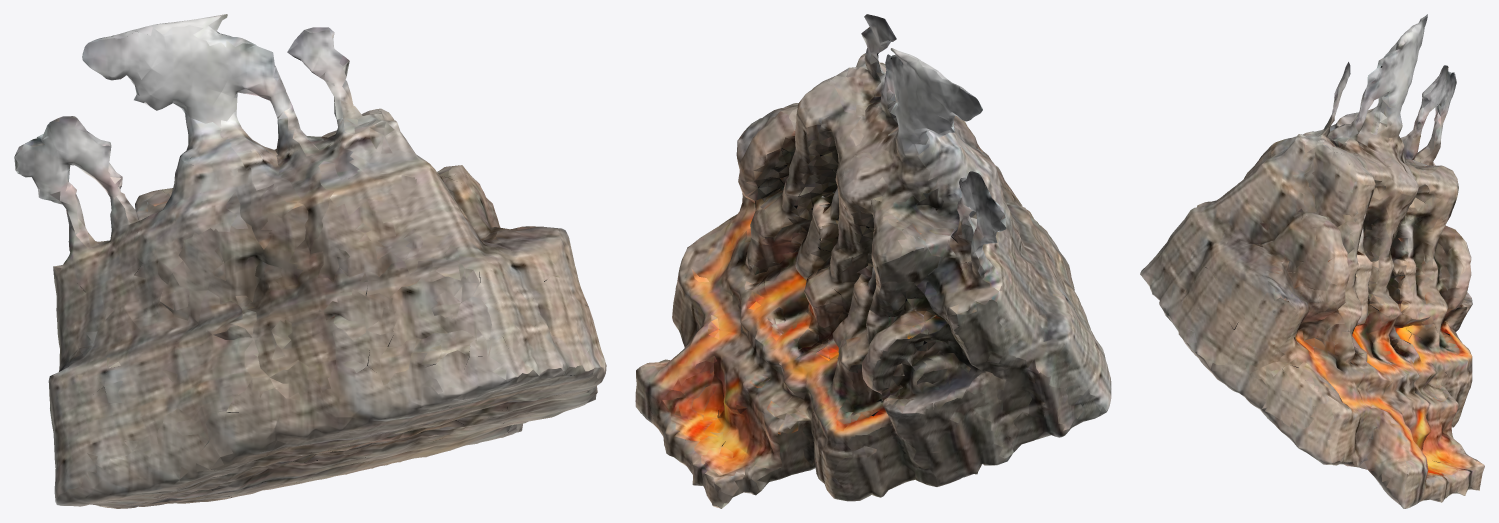
The model's file is titanforge_harvester.glb.
The picture shows the model from 3 angles, left to right: view 1: azimuth 30°, elevation 25°; view 2: azimuth 150°, elevation 25°; view 3: azimuth 270°, elevation 25°; orthographic projection. The views are drawn at different scales.
Visible parts, largest first — view 1: geometry_0; view 2: geometry_0; view 3: geometry_0.
Boxes of the visible parts, left/top/right/bottom form: geometry_0: left=14, top=14, right=606, bottom=508; geometry_0: left=635, top=14, right=1111, bottom=508; geometry_0: left=1140, top=14, right=1484, bottom=508.
Size of the model in its own units: 0.8677 by 0.8563 by 0.6853.
Materials: 1 (1 with a texture image).
